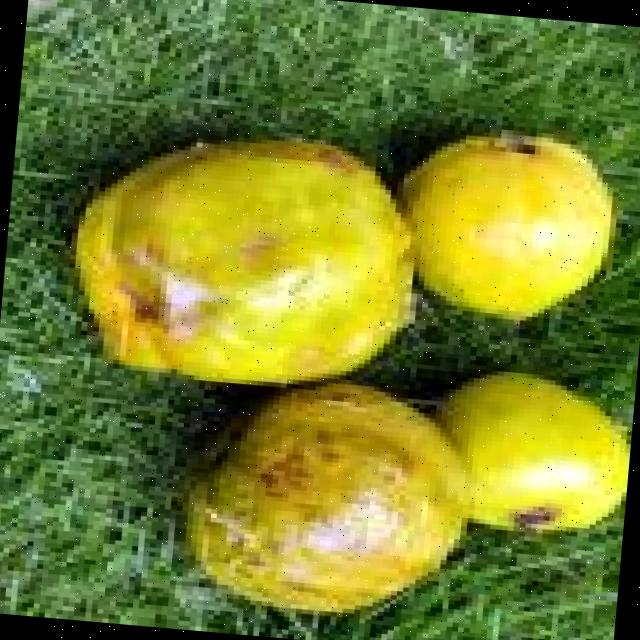Bad_Guava 0 day: (63, 132, 470, 617)
Good_Guava 5-7 days: (391, 130, 613, 317), (418, 368, 628, 532)
